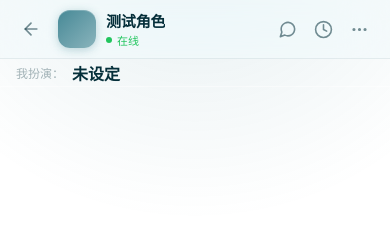
Test: ChatArea 内心活动按钮（affinity 门控回归） › affinity 有数据时弹层渲染真实数值区
Click the button named "内心之声". click: click(287, 29)
box: [270,12,304,46]
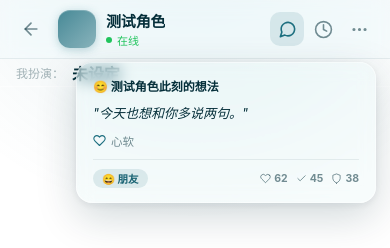
Expected: the element with class "dm-inner-voice" is shown, [76,62,376,203]
Expected: the element with class "dm-inner-voice-stats" is shown, [260,172,359,185]
Expected: the element with class "dm-inner-voice-stats" shows "62", [274,172,288,185]
